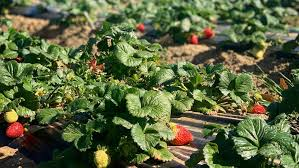ripe: (161, 122, 193, 149), (249, 105, 267, 116), (185, 29, 197, 43)
unripe: (89, 147, 110, 166)
